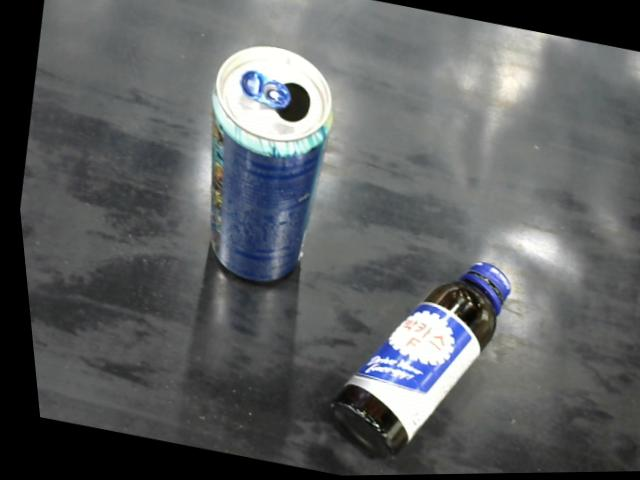can: (166, 34, 356, 296)
glass: (319, 262, 506, 465)
